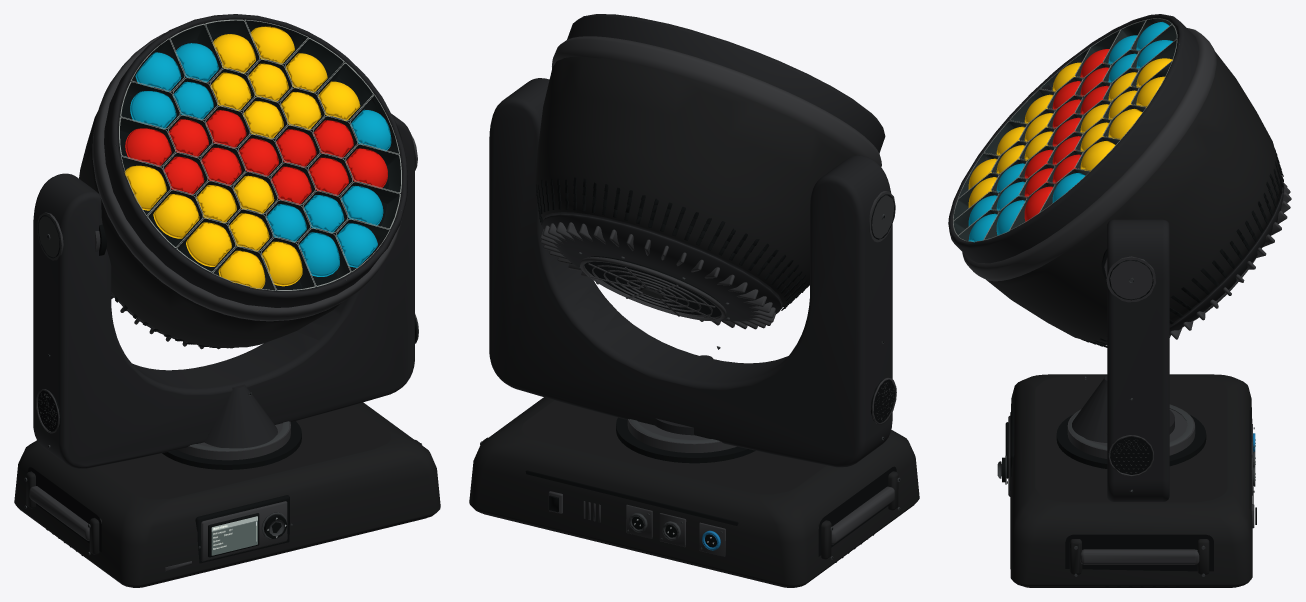
The model's file is wash37.glb.
3 views of the same model, side by side, from view 1: azimuth 30°, elevation 25°; view 2: azimuth 150°, elevation 25°; view 3: azimuth 270°, elevation 25° (orthographic). The views are drawn at different scales.
Visible parts, largest first — view 1: Pan motor pedestal, Moulded sloped base housing, yellow convex lens, Sculpted reflector cup, red convex lens, cyan convex lens, Deep optical array retaining ring, Curved main head housing, Front outer graphite bezel, Thin silver separator edge, Pan clearance shadow, Pan bearing ring (+5 smaller); view 2: Pan motor pedestal, Curved main head housing, Moulded sloped base housing, Deep optical array retaining ring, Front outer graphite bezel, Front bezel seam, Pan clearance shadow, Pan bearing ring, Tilt axle hub, Yoke casing parting line, Pan bearing trim; view 3: Moulded sloped base housing, Curved main head housing, Pan motor pedestal, Deep optical array retaining ring, Front outer graphite bezel, Sculpted reflector cup, yellow convex lens, Pan clearance shadow, red convex lens, cyan convex lens, Pan bearing ring, Thin silver separator edge (+4 smaller).
Boxes of the visible parts, x1=… form: Pan motor pedestal: x1=33, y1=113, x2=414, y2=468; Moulded sloped base housing: x1=14, y1=402, x2=440, y2=587; yellow convex lens: x1=124, y1=26, x2=360, y2=289; Sculpted reflector cup: x1=118, y1=20, x2=400, y2=291; red convex lens: x1=125, y1=110, x2=387, y2=204; cyan convex lens: x1=130, y1=43, x2=391, y2=276; Deep optical array retaining ring: x1=104, y1=14, x2=407, y2=344; Curved main head housing: x1=79, y1=111, x2=340, y2=347; Front outer graphite bezel: x1=92, y1=32, x2=403, y2=349; Thin silver separator edge: x1=119, y1=19, x2=401, y2=290; Pan clearance shadow: x1=25, y1=421, x2=301, y2=563; Pan bearing ring: x1=29, y1=421, x2=290, y2=570; Pan motor pedestal: x1=489, y1=78, x2=892, y2=467; Curved main head housing: x1=535, y1=56, x2=854, y2=306; Moulded sloped base housing: x1=469, y1=397, x2=919, y2=587; Deep optical array retaining ring: x1=542, y1=14, x2=885, y2=321; Front outer graphite bezel: x1=540, y1=36, x2=881, y2=329; Front bezel seam: x1=536, y1=177, x2=808, y2=317; Pan clearance shadow: x1=525, y1=417, x2=899, y2=562; Pan bearing ring: x1=548, y1=419, x2=894, y2=556; Tilt axle hub: x1=869, y1=191, x2=896, y2=424; Yoke casing parting line: x1=871, y1=194, x2=894, y2=439; Pan bearing trim: x1=480, y1=419, x2=900, y2=559; Moulded sloped base housing: x1=1010, y1=374, x2=1252, y2=586; Curved main head housing: x1=986, y1=51, x2=1280, y2=345; Pan motor pedestal: x1=1072, y1=219, x2=1174, y2=501; Deep optical array retaining ring: x1=948, y1=14, x2=1284, y2=335; Front outer graphite bezel: x1=962, y1=28, x2=1291, y2=339; Sculpted reflector cup: x1=953, y1=19, x2=1177, y2=240; yellow convex lens: x1=968, y1=58, x2=1172, y2=207; Pan clearance shadow: x1=1002, y1=410, x2=1256, y2=587; red convex lens: x1=1024, y1=49, x2=1109, y2=221; cyan convex lens: x1=968, y1=21, x2=1172, y2=242; Pan bearing ring: x1=1008, y1=404, x2=1254, y2=564; Thin silver separator edge: x1=953, y1=18, x2=1177, y2=241.
Size of the model in its own units: 0.605 by 0.774 by 0.4954.
Materials: 16 (1 with a texture image).
